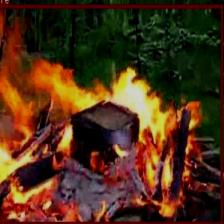fire: (0, 3, 222, 224)
